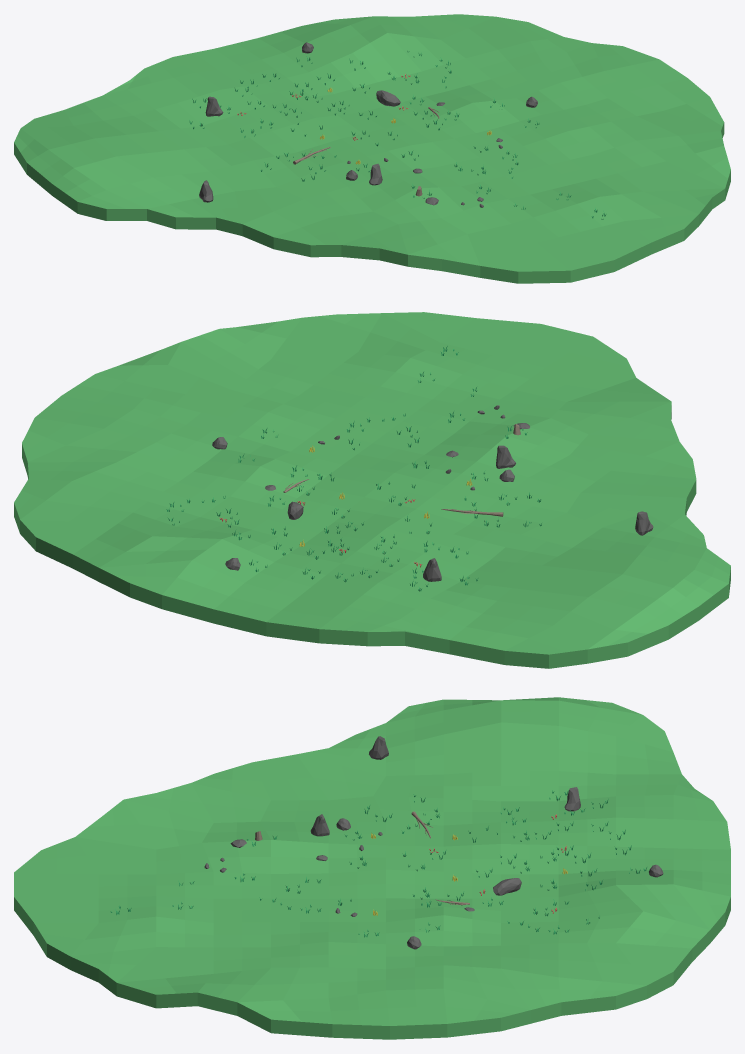
Rendered from Low Poly Forest3.fbx.
3 views of the same model, one above another, from view 1: azimuth 30°, elevation 25°; view 2: azimuth 150°, elevation 25°; view 3: azimuth 270°, elevation 25° (orthographic). The views are drawn at different scales.
Parts seen in each view (by area): view 1: Plane; view 2: Plane; view 3: Plane.
Part boxes in pixels (bbox=[...]): Plane: bbox=[14, 14, 730, 283]; Plane: bbox=[14, 312, 730, 668]; Plane: bbox=[14, 697, 730, 1039].
Size of the model in its own units: 28267 by 1538 by 26394.
